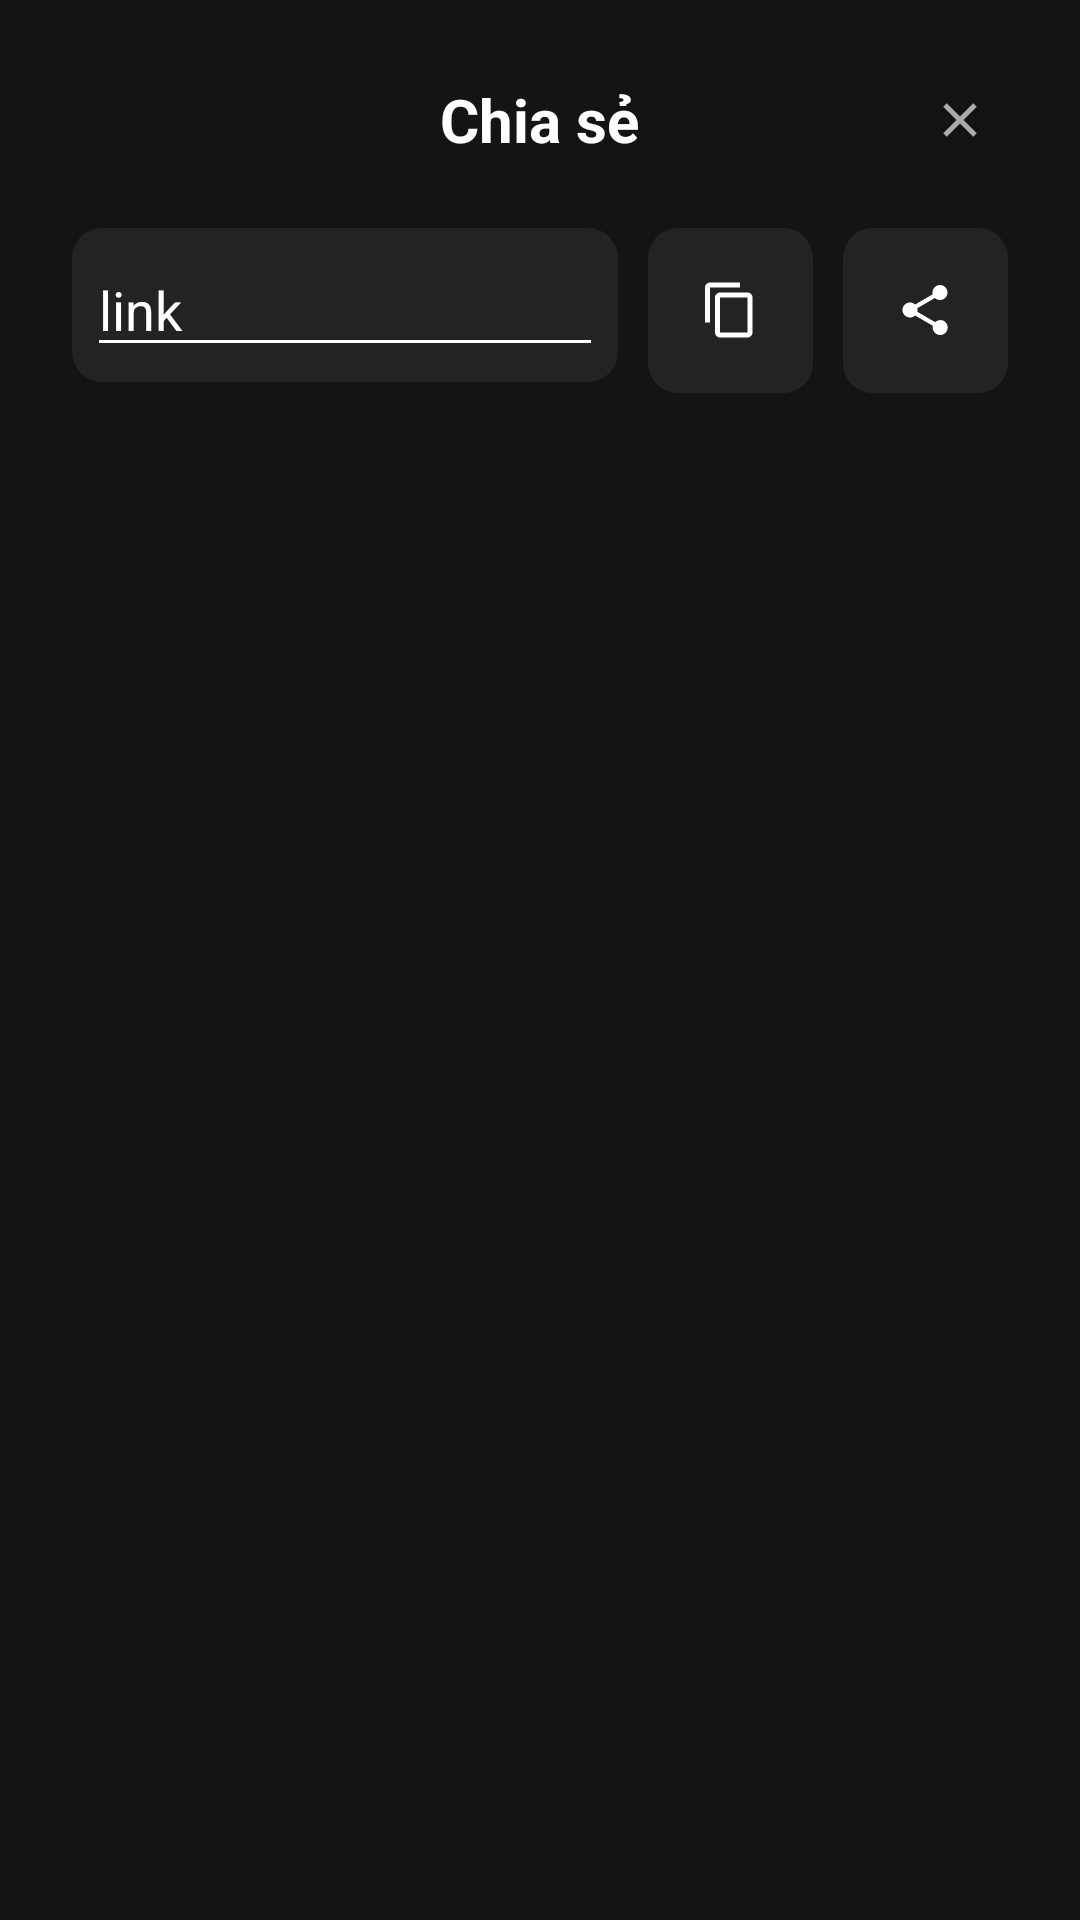

Icon click points for this 1080*1920 phone screenshot, format [x,y]:
close: [960,120]
share: [925,310]
